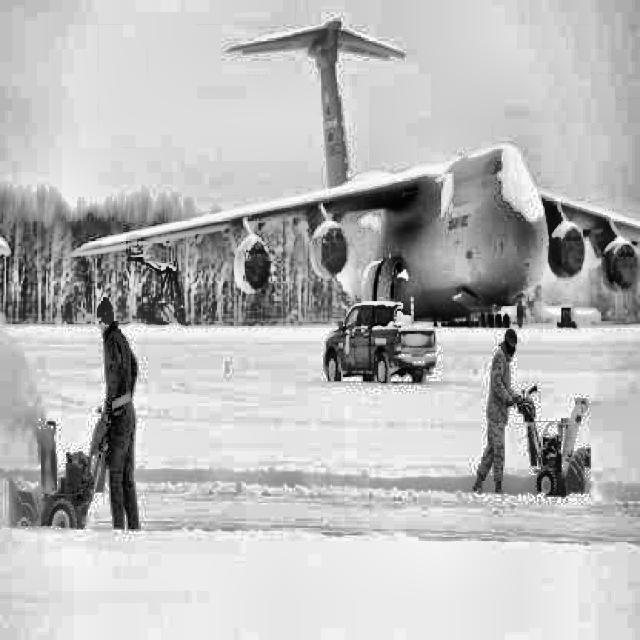C5: (70, 17, 638, 329)
